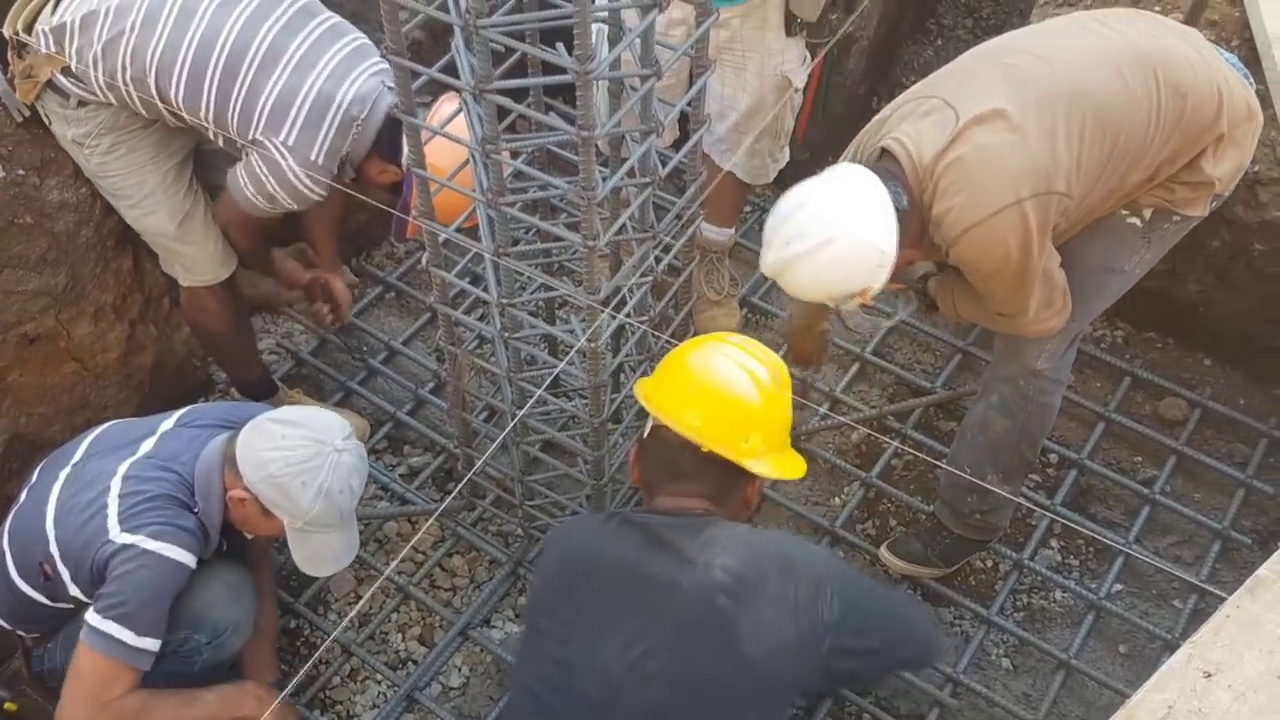helmet: (641, 324, 801, 487), (765, 164, 899, 323), (404, 84, 505, 260)
helmet-off: (220, 408, 366, 579)
helmet-on: (619, 339, 808, 533), (764, 143, 932, 318), (354, 80, 510, 267)
person: (766, 0, 1272, 564), (8, 0, 505, 390), (498, 334, 951, 717), (6, 387, 373, 717), (593, 0, 819, 323)
